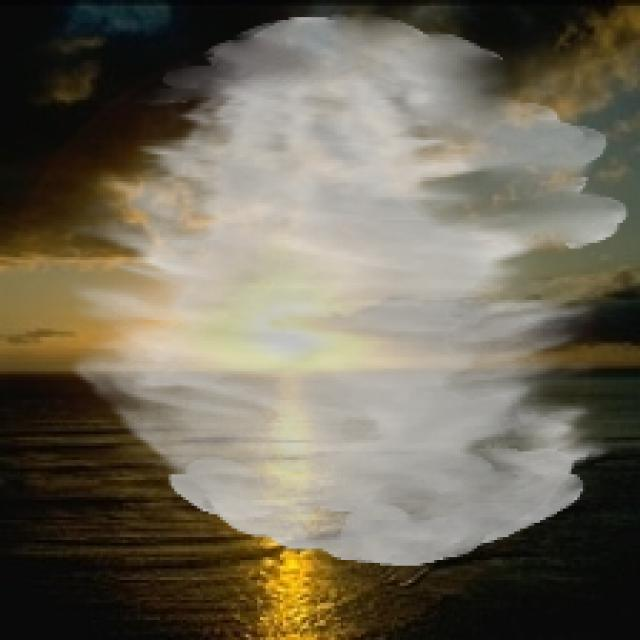smoke: (66, 14, 628, 566)
